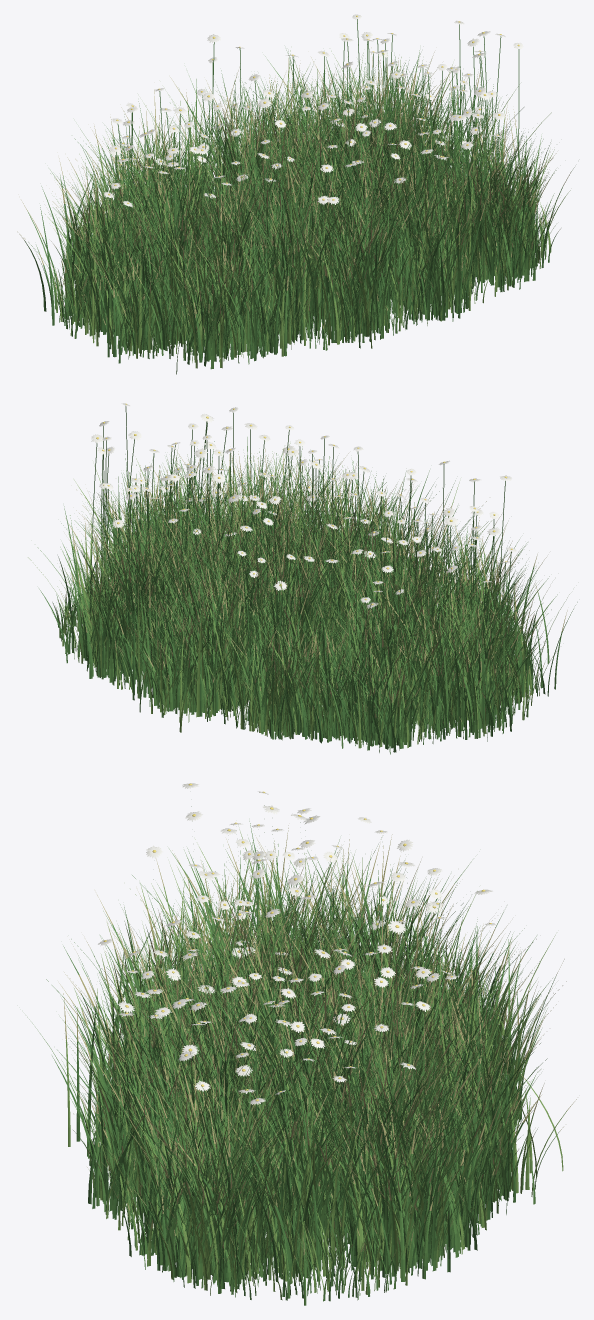
File: G_Meadow.fbx
The picture shows the model from 3 angles, top to bottom: view 1: azimuth 30°, elevation 25°; view 2: azimuth 150°, elevation 25°; view 3: azimuth 270°, elevation 25°; orthographic projection. The views are drawn at different scales.
Visible parts, largest first — view 1: G_Meadow; view 2: G_Meadow; view 3: G_Meadow.
Part boxes in pixels (x1,y1,x2,y2): G_Meadow: (17,14,574,374); G_Meadow: (28,403,577,754); G_Meadow: (27,783,576,1305).
Bounding box in the file's own units: 5.99 × 2.31 × 4.43.
